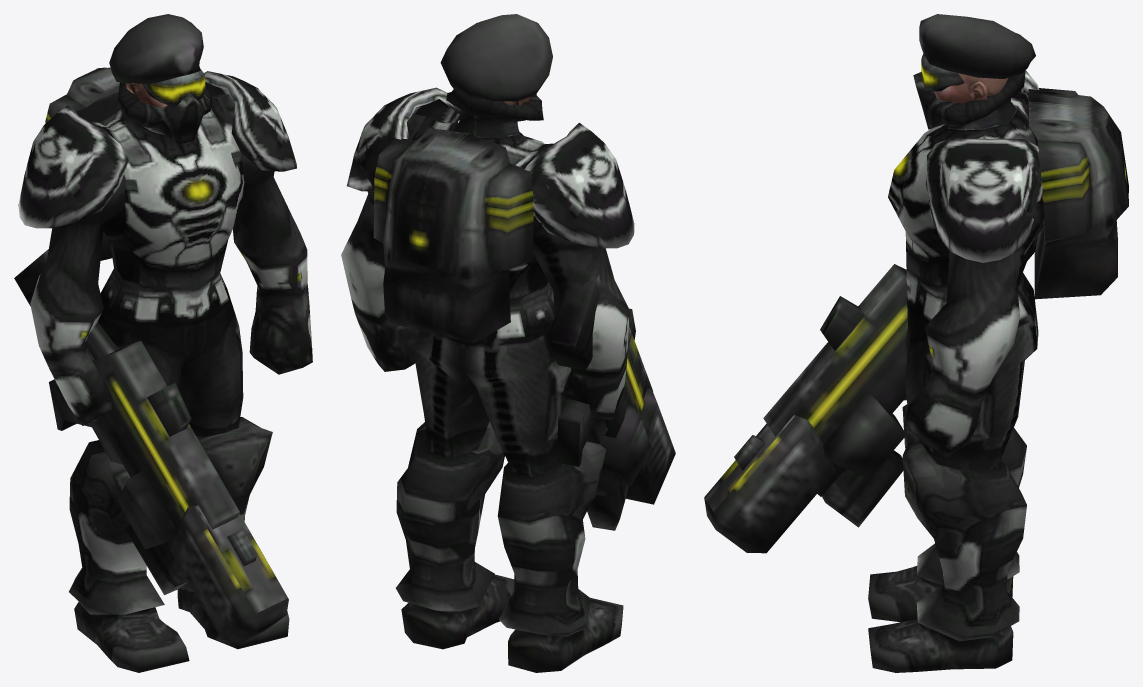
The model's file is UPL_Trooper.glb.
3 renders of one model, left to right at view 1: azimuth 30°, elevation 25°; view 2: azimuth 150°, elevation 25°; view 3: azimuth 270°, elevation 25°, orthographic. The views are drawn at different scales.
Parts seen in each view (by area): view 1: Mesh; view 2: Mesh; view 3: Mesh.
Boxes of the visible parts, x1,y1,x2,y2 form: Mesh: [14, 14, 312, 672]; Mesh: [341, 14, 675, 672]; Mesh: [704, 14, 1128, 672].
Bounding box in the file's own units: 0.4729 × 0.9722 × 0.6118.
1 material, 1 textured.
